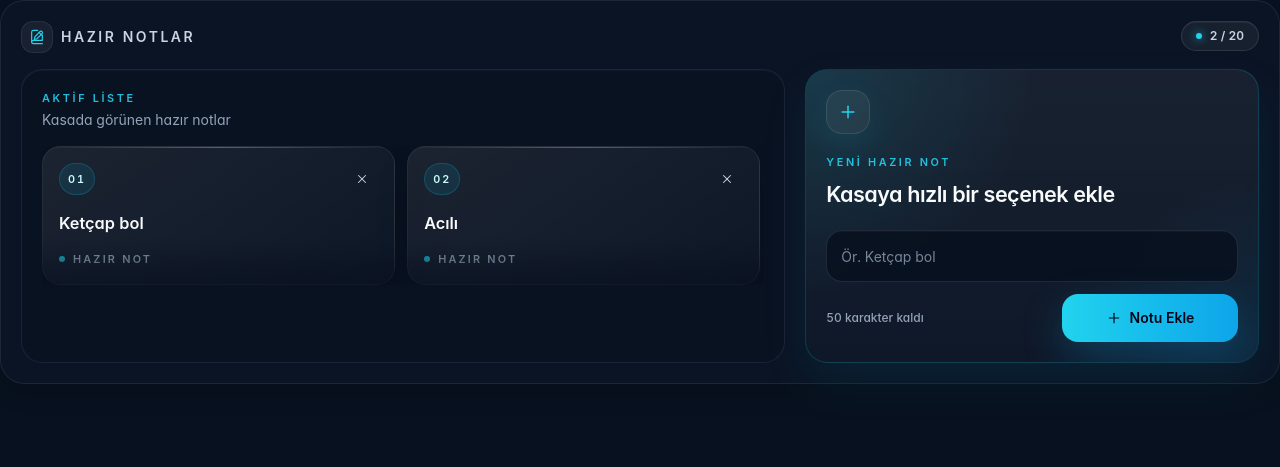
NotePresetsCard › removes a note and saves immediately
Click the button named "Ketçap bol notunu sil": [362, 179] box [346,163,378,195]
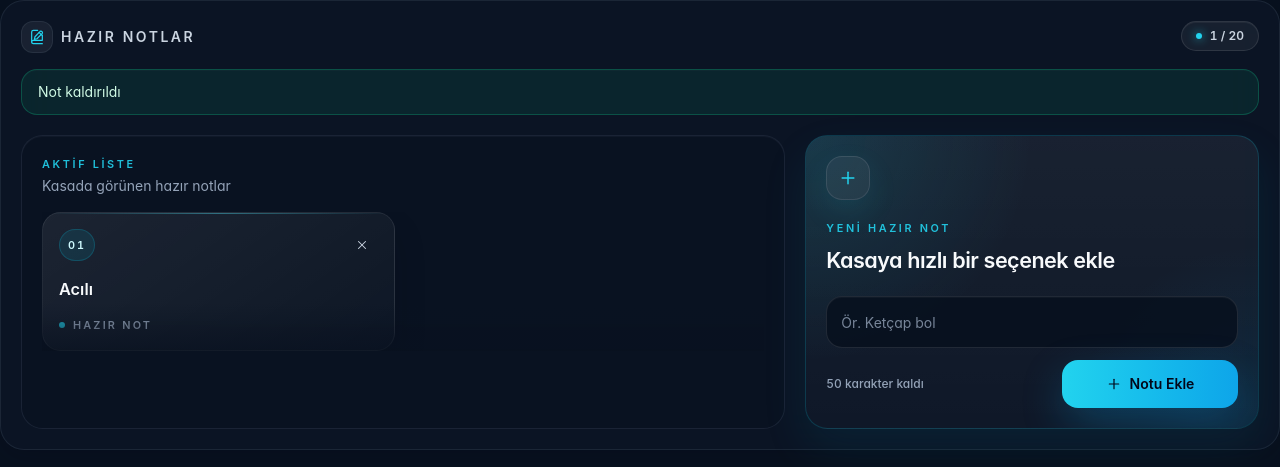
Expected: the text "Not kaldırıldı" is shown, [38,83,121,100]
